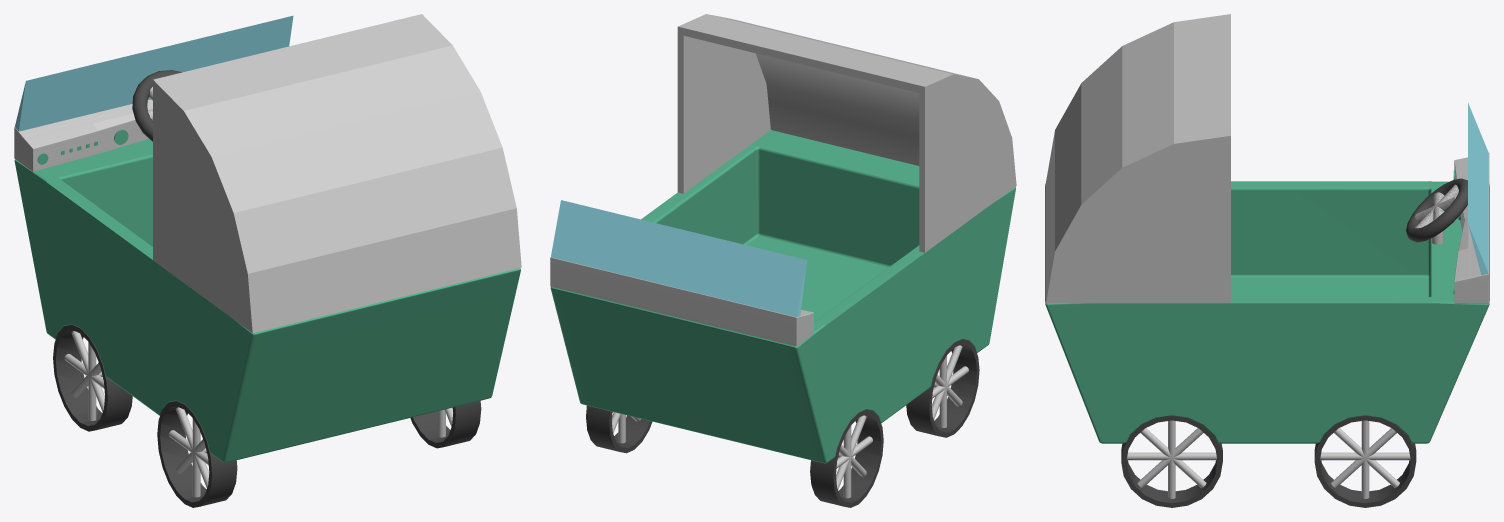
Rendered from baby_car_final_rounded.obj.
3 views of the same model, side by side, from view 1: azimuth 30°, elevation 25°; view 2: azimuth 150°, elevation 25°; view 3: azimuth 270°, elevation 25° (orthographic). The views are drawn at different scales.
Parts seen in each view (by area): view 1: gg___baby_car_top:pCylinder1, polySurface4 pCylinder27, pCube5, pCube6, pCylinder32, pCylinder35, pCylinder31, pCylinder47, pCylinder45, pCylinder27 polySurface5; view 2: polySurface4 pCylinder27, gg___baby_car_top:pCylinder19, gg___baby_car_top:pCylinder1, pCube5, pCube6, pCylinder35, pCylinder32, pCylinder34, pCylinder45, pCylinder47; view 3: polySurface4 pCylinder27, gg___baby_car_top:pCylinder1, pCube5, pCylinder34, pCylinder31, pCube6, pCylinder46, pCylinder48, pCylinder27 polySurface5.
Part boxes in pixels (<box>): gg___baby_car_top:pCylinder1: <box>153,14,521,333</box>; polySurface4 pCylinder27: <box>14,139,520,462</box>; pCube5: <box>15,15,293,131</box>; pCube6: <box>14,99,152,171</box>; pCylinder32: <box>157,401,237,507</box>; pCylinder35: <box>53,324,132,431</box>; pCylinder31: <box>410,401,481,448</box>; pCylinder47: <box>169,407,209,497</box>; pCylinder45: <box>64,331,104,420</box>; pCylinder27 polySurface5: <box>132,70,181,141</box>; polySurface4 pCylinder27: <box>550,130,1015,463</box>; gg___baby_car_top:pCylinder19: <box>677,26,924,252</box>; gg___baby_car_top:pCylinder1: <box>678,14,1016,252</box>; pCube5: <box>551,200,806,317</box>; pCube6: <box>550,257,813,346</box>; pCylinder35: <box>810,409,883,507</box>; pCylinder32: <box>906,339,979,437</box>; pCylinder34: <box>586,405,652,453</box>; pCylinder45: <box>836,415,872,498</box>; pCylinder47: <box>931,345,968,427</box>; polySurface4 pCylinder27: <box>1045,181,1489,443</box>; gg___baby_car_top:pCylinder1: <box>1046,14,1230,303</box>; pCube5: <box>1468,103,1488,275</box>; pCylinder34: <box>1314,415,1416,507</box>; pCylinder31: <box>1121,415,1222,507</box>; pCube6: <box>1454,153,1489,303</box>; pCylinder46: <box>1320,420,1410,498</box>; pCylinder48: <box>1126,420,1216,498</box>; pCylinder27 polySurface5: <box>1406,178,1467,242</box>.
Size of the model in its own units: 1.56 by 2.22 by 2.41.
